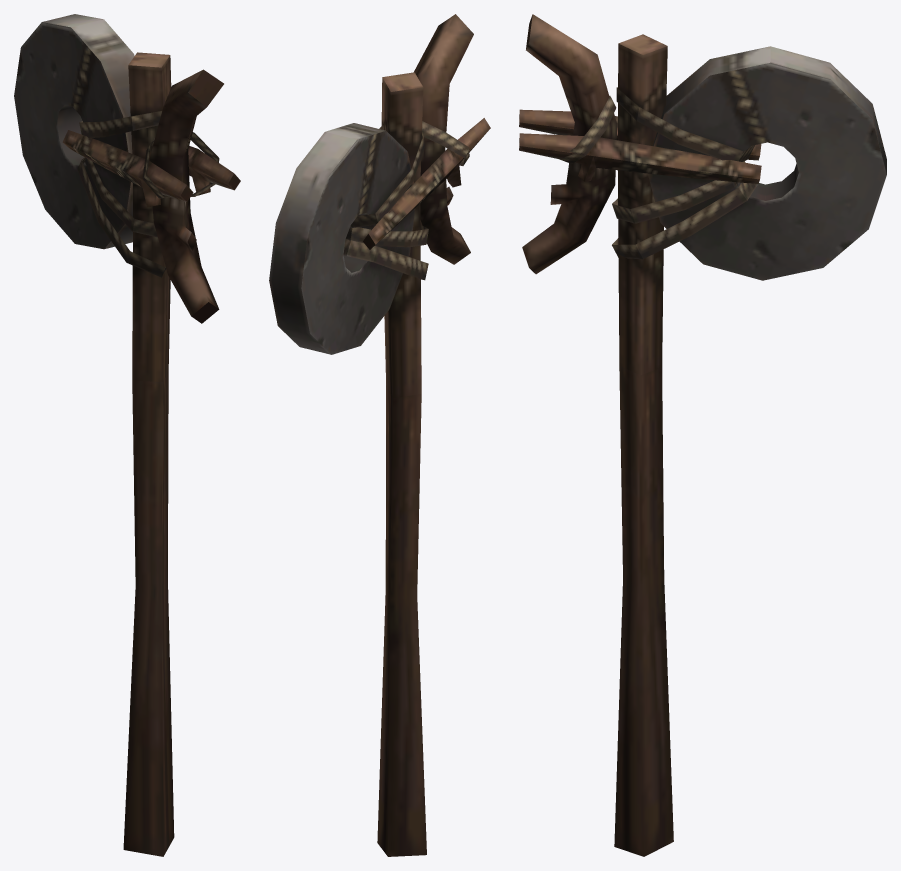
Rendered from greathammer16_c7758192.glb.
3 renders of one model, left to right at view 1: azimuth 30°, elevation 25°; view 2: azimuth 150°, elevation 25°; view 3: azimuth 270°, elevation 25°, orthographic. The views are drawn at different scales.
Bounding box in the file's own units: 0.202 × 2.2 × 0.8785.
1 material, 1 textured.
